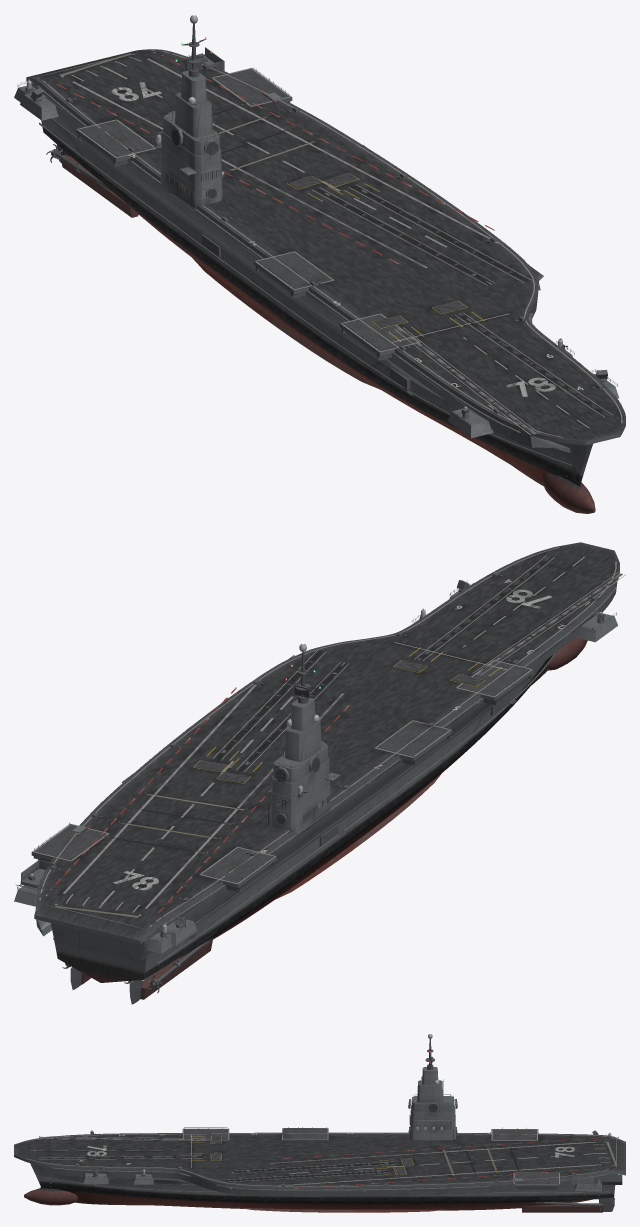
The model's file is carrier_cvn.glb.
3 renders of one model, top to bottom at view 1: azimuth 30°, elevation 25°; view 2: azimuth 150°, elevation 25°; view 3: azimuth 270°, elevation 25°, orthographic. The views are drawn at different scales.
Visible parts, largest first — view 1: cvn_deck, cvn_hull, cvn_super, cvn_markings, cvn_detail, cvn_hullnumbers; view 2: cvn_deck, cvn_hull, cvn_super, cvn_markings, cvn_detail, cvn_hullnumbers; view 3: cvn_deck, cvn_hull, cvn_markings, cvn_super, cvn_detail, cvn_hullnumbers.
Boxes of the visible parts, box(x1,y1,x2,y2) form: cvn_deck: box(26, 49, 625, 452); cvn_hull: box(33, 52, 595, 513); cvn_super: box(14, 15, 618, 438); cvn_markings: box(37, 50, 622, 437); cvn_detail: box(17, 14, 618, 476); cvn_hullnumbers: box(111, 82, 555, 396); cvn_deck: box(31, 542, 619, 959); cvn_hull: box(47, 637, 587, 1004); cvn_super: box(14, 580, 617, 953); cvn_markings: box(33, 547, 625, 926); cvn_detail: box(15, 566, 616, 970); cvn_hullnumbers: box(112, 589, 552, 890); cvn_deck: box(14, 1128, 625, 1196); cvn_hull: box(24, 1138, 616, 1212); cvn_markings: box(26, 1128, 617, 1188); cvn_super: box(51, 1034, 614, 1191); cvn_detail: box(44, 1033, 618, 1198); cvn_hullnumbers: box(87, 1145, 574, 1157).
Bounding box in the file's own units: 78 × 94.36 × 333.
19 materials, 19 textured.
